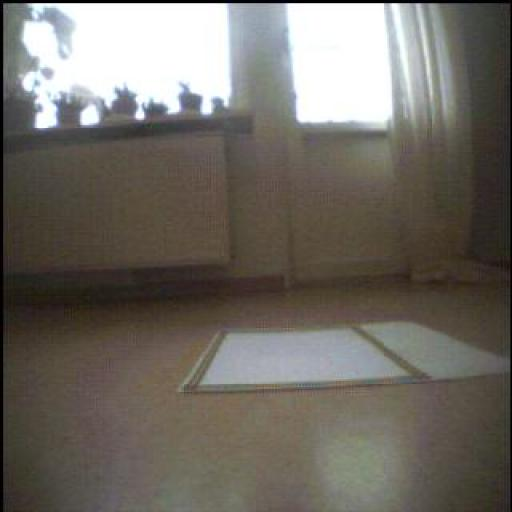Pad: (182, 323, 511, 393)
